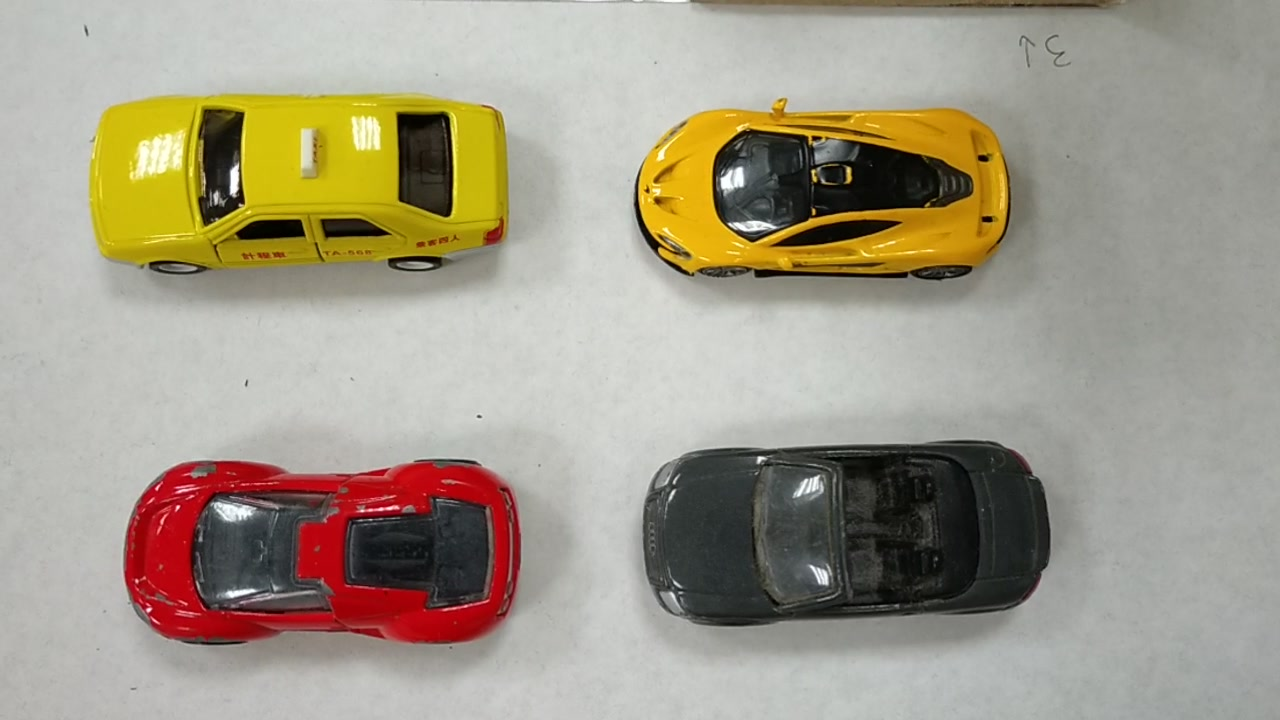car: (120, 459, 518, 652), (633, 450, 1050, 627), (75, 106, 513, 271), (624, 106, 1011, 281)
